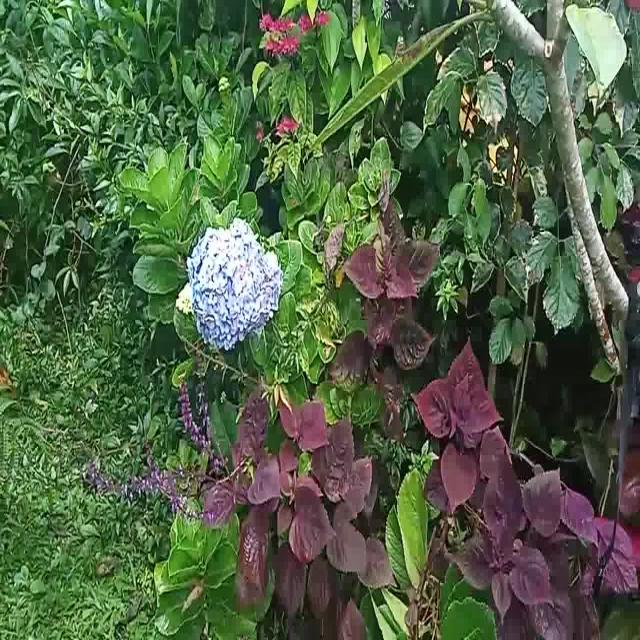Flower: (189, 216, 285, 355)
